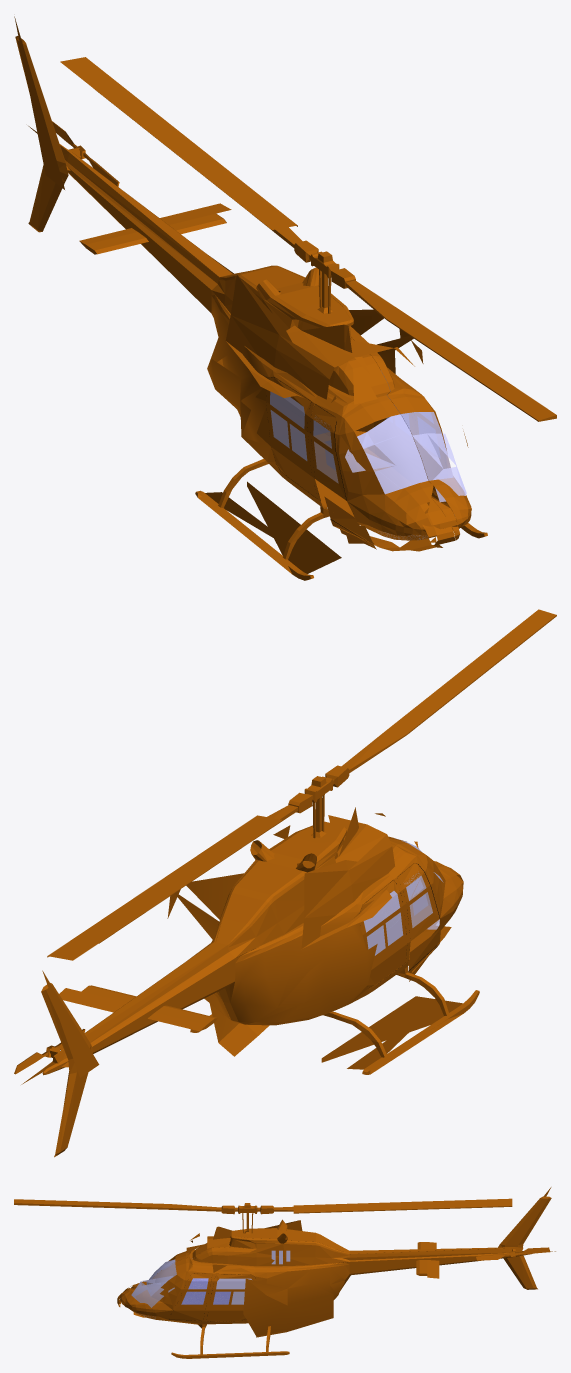
File: helicoAccident.fbx
3 views of the same model, one above another, from view 1: azimuth 30°, elevation 25°; view 2: azimuth 150°, elevation 25°; view 3: azimuth 270°, elevation 25° (orthographic). The views are drawn at different scales.
Parts seen in each view (by area): view 1: helicoAccident_body, heliceAccident_avant; view 2: helicoAccident_body, heliceAccident_avant; view 3: helicoAccident_body, heliceAccident_avant, HeliceAccident_arriere.
Part boxes in pixels (left/top/right/bottom): helicoAccident_body: left=14, top=16, right=487, bottom=580; heliceAccident_avant: left=60, top=57, right=556, bottom=421; helicoAccident_body: left=21, top=807, right=479, bottom=1157; heliceAccident_avant: left=47, top=609, right=556, bottom=960; helicoAccident_body: left=117, top=1187, right=555, bottom=1358; heliceAccident_avant: left=14, top=1198, right=512, bottom=1236; HeliceAccident_arriere: left=476, top=1247, right=550, bottom=1260.
Bounding box in the file's own units: 2.85 × 3.73 × 12.52.
